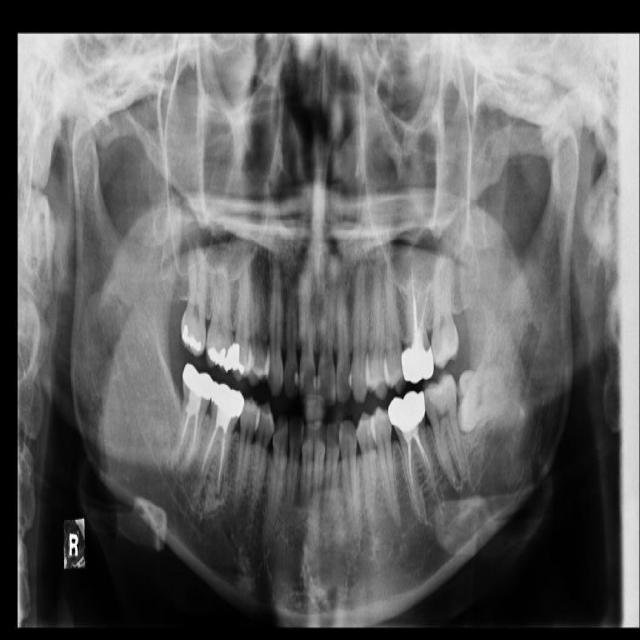52: (381, 386, 437, 438), (199, 378, 252, 428), (171, 361, 224, 410), (200, 322, 241, 374), (397, 336, 437, 386), (180, 307, 206, 358), (228, 338, 254, 382), (316, 360, 337, 406), (298, 358, 318, 405), (285, 358, 299, 398)
73: (194, 414, 236, 495), (397, 424, 439, 504), (168, 393, 210, 472), (403, 262, 432, 343), (602, 590, 606, 599)
BioHorizons Implant: (431, 255, 462, 370)
Biomet 3i Implant: (447, 364, 513, 435)
Blue Sky Bio Implant: (421, 370, 467, 484)
Caries: (180, 247, 208, 358)
Implant: (169, 362, 217, 472)
